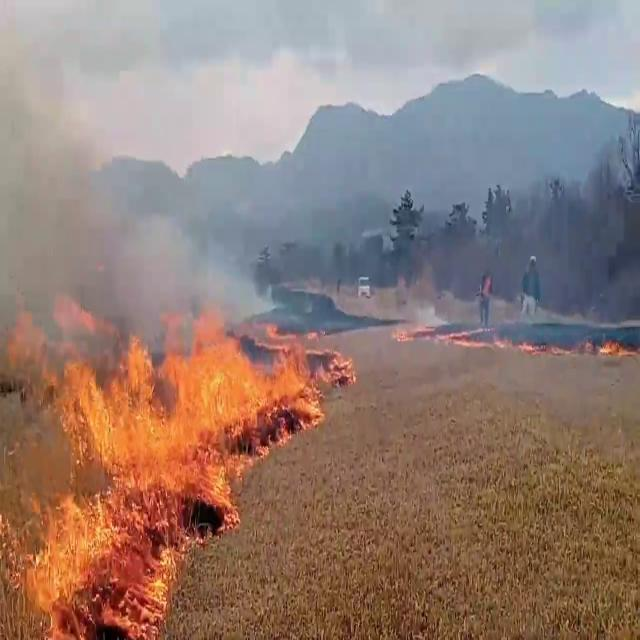Fire: (43, 301, 327, 437)
Smoke: (0, 4, 254, 368)
